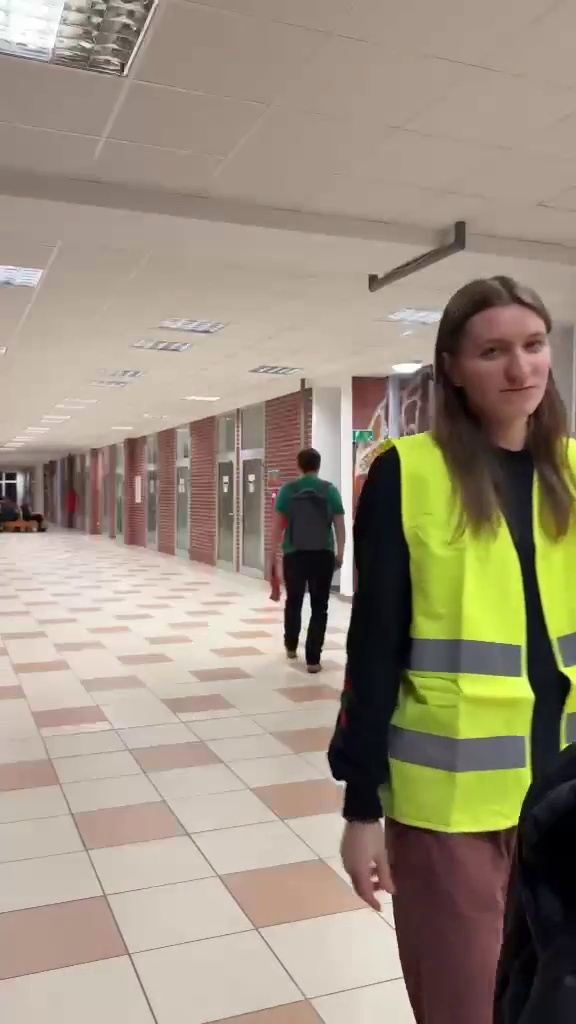no vest: (262, 439, 351, 674)
vest: (367, 269, 576, 992)
